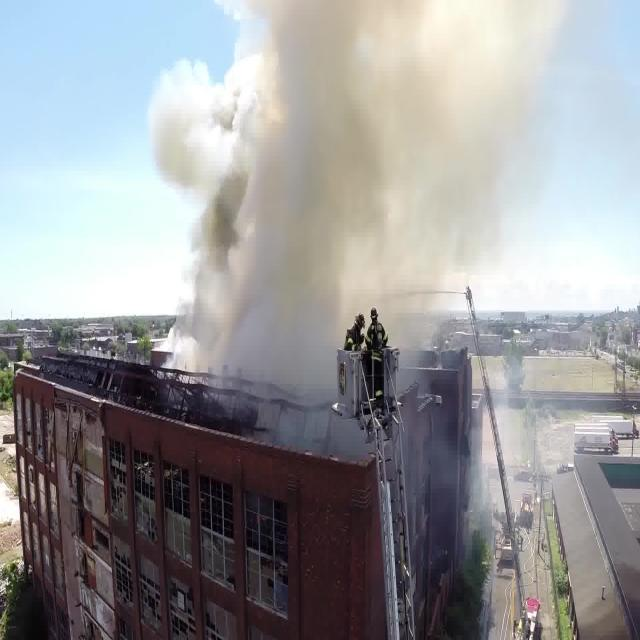Smoke: (198, 0, 586, 406)
